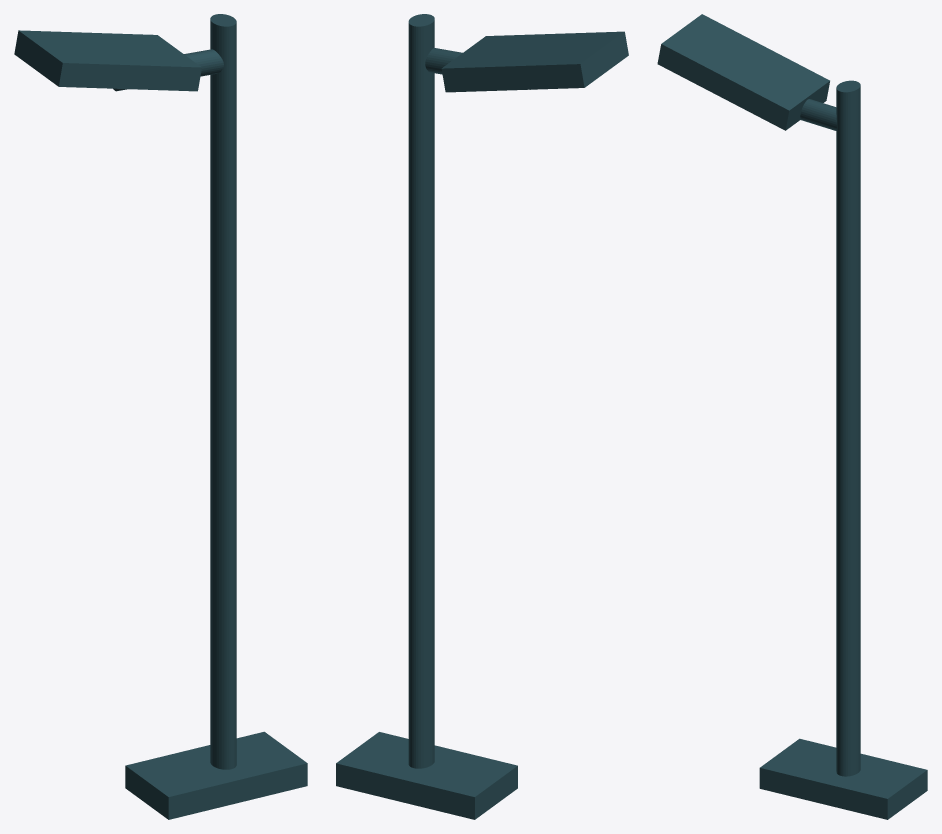
The model's file is Lampa za Unity nova.fbx.
The picture shows the model from 3 angles, left to right: view 1: azimuth 30°, elevation 25°; view 2: azimuth 150°, elevation 25°; view 3: azimuth 330°, elevation 25°; orthographic projection. The views are drawn at different scales.
Visible parts, largest first — view 1: Stup lampa; view 2: Stup lampa; view 3: Stup lampa.
Boxes of the visible parts, left/top/right/bottom form: Stup lampa: left=14, top=14, right=307, bottom=819; Stup lampa: left=336, top=14, right=628, bottom=819; Stup lampa: left=657, top=14, right=927, bottom=819.
Bounding box in the file's own units: 100 × 300 × 30.85.
